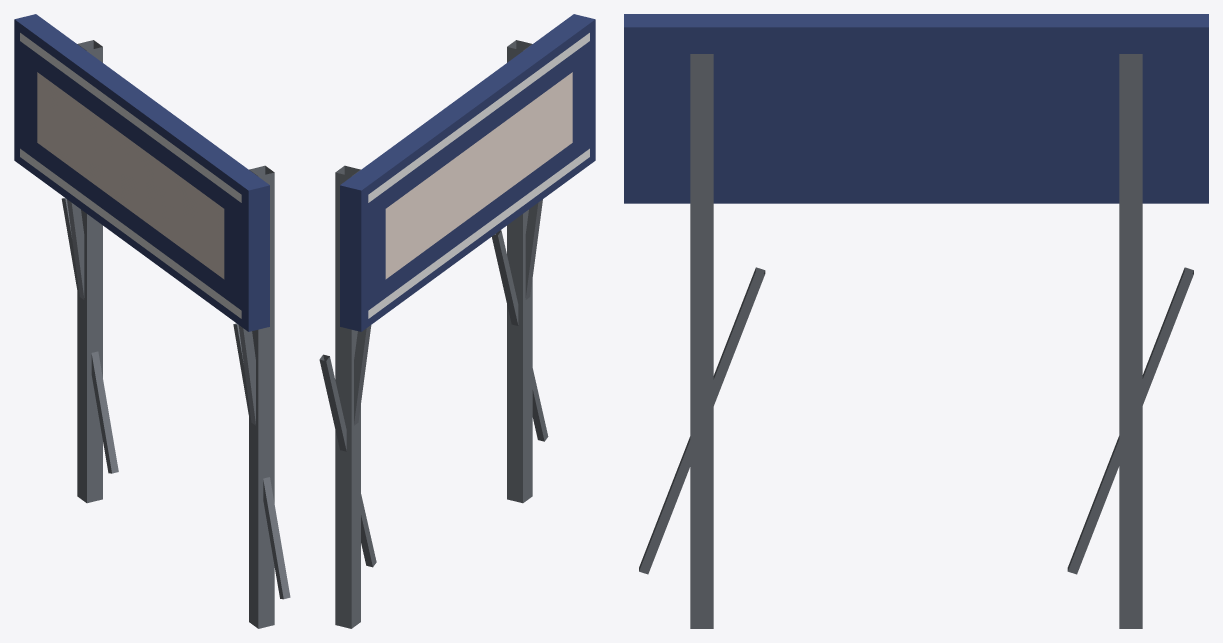
Rendered from roofprop_close.fbx.
3 renders of one model, left to right at view 1: azimuth 30°, elevation 25°; view 2: azimuth 150°, elevation 25°; view 3: azimuth 270°, elevation 25°, orthographic. The views are drawn at different scales.
Parts seen in each view (by area): view 1: a2004/700/roofprop_close; view 2: a2004/700/roofprop_close; view 3: a2004/700/roofprop_close.
Part boxes in pixels (x1=…): a2004/700/roofprop_close: x1=14, y1=14, x2=290, y2=628; a2004/700/roofprop_close: x1=319, y1=14, x2=595, y2=628; a2004/700/roofprop_close: x1=624, y1=14, x2=1208, y2=628.
Bounding box in the file's own units: 0.395 × 3.3 × 3.
